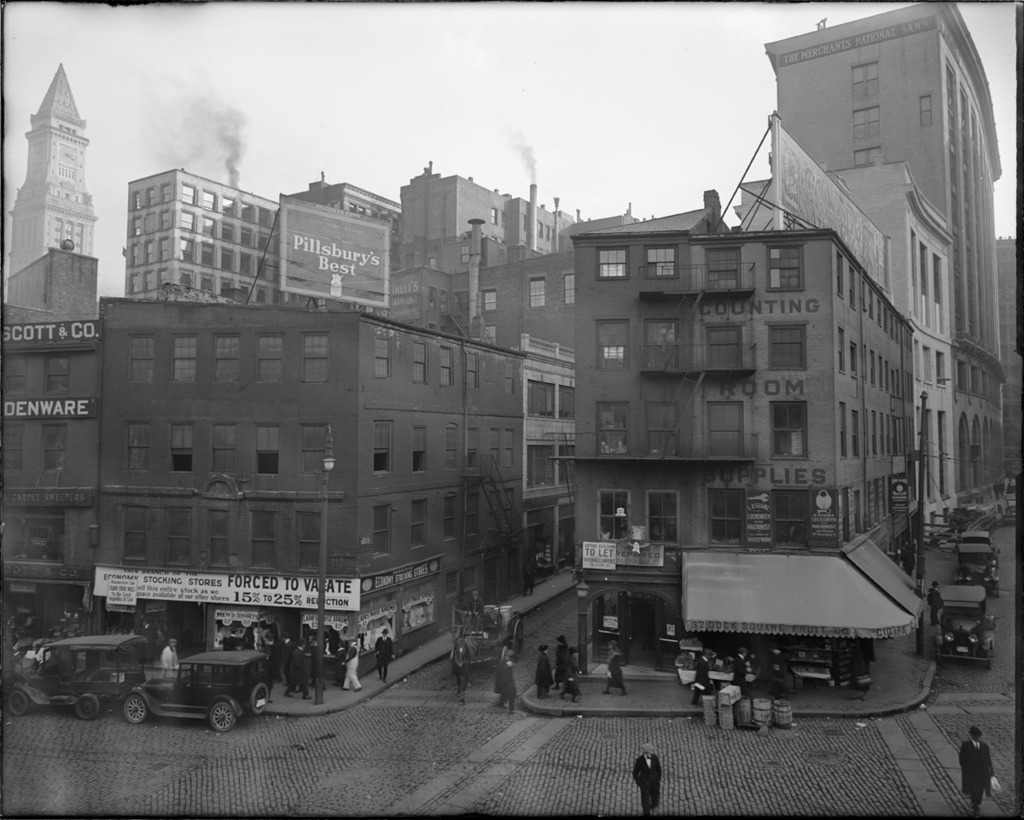cars: (0, 634, 147, 718), (123, 650, 271, 733), (933, 581, 1000, 668), (959, 543, 1001, 594), (957, 530, 998, 568)
